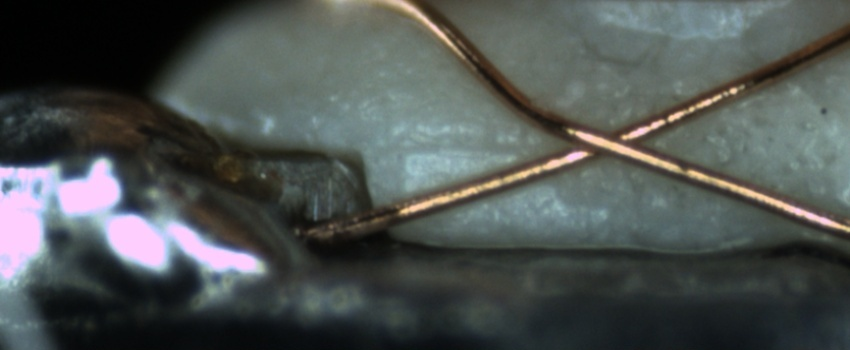CL: (532, 109, 684, 170)
DL: (402, 118, 535, 180)
